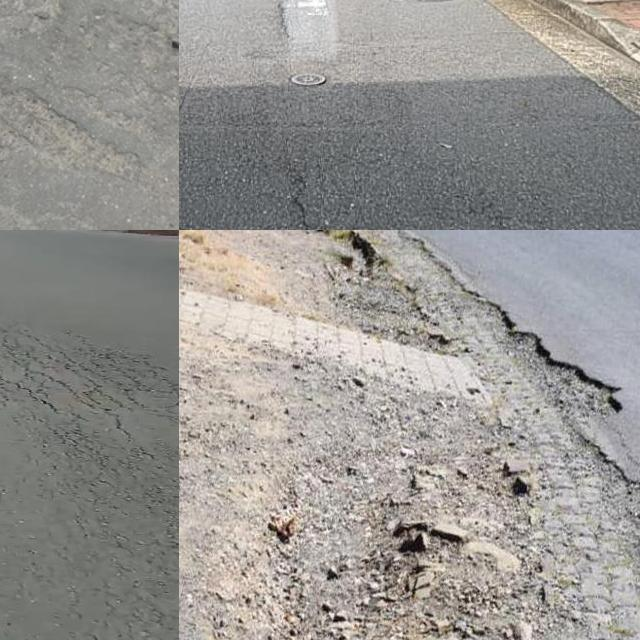Pinggir: (353, 230, 640, 640)
Retak Buaya: (0, 319, 179, 446)
